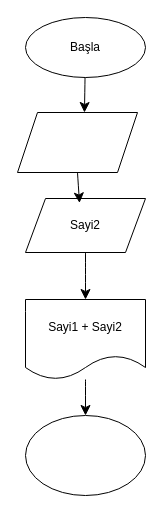
Some shapes in this 163 by 513 pixel diagram are drawn without their labels. Each missing label, with the centre of its shape:
Dur: the point at 85,455
Sayi1: the point at 77,142
